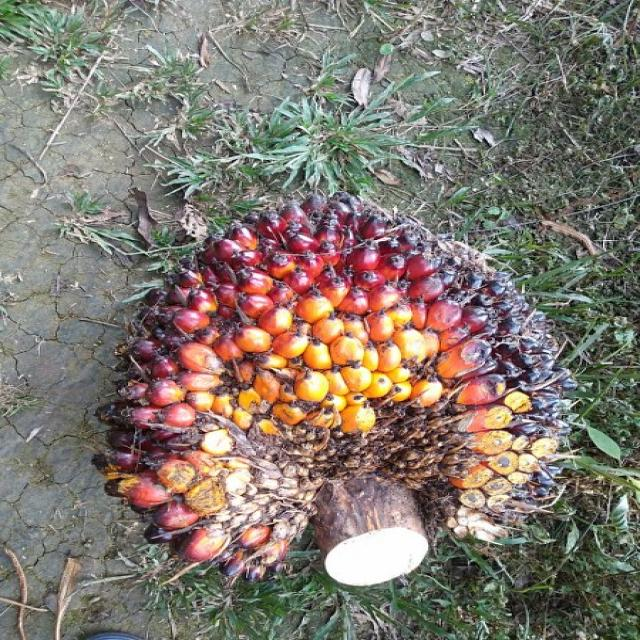fraksi 1: (98, 129, 583, 599)
